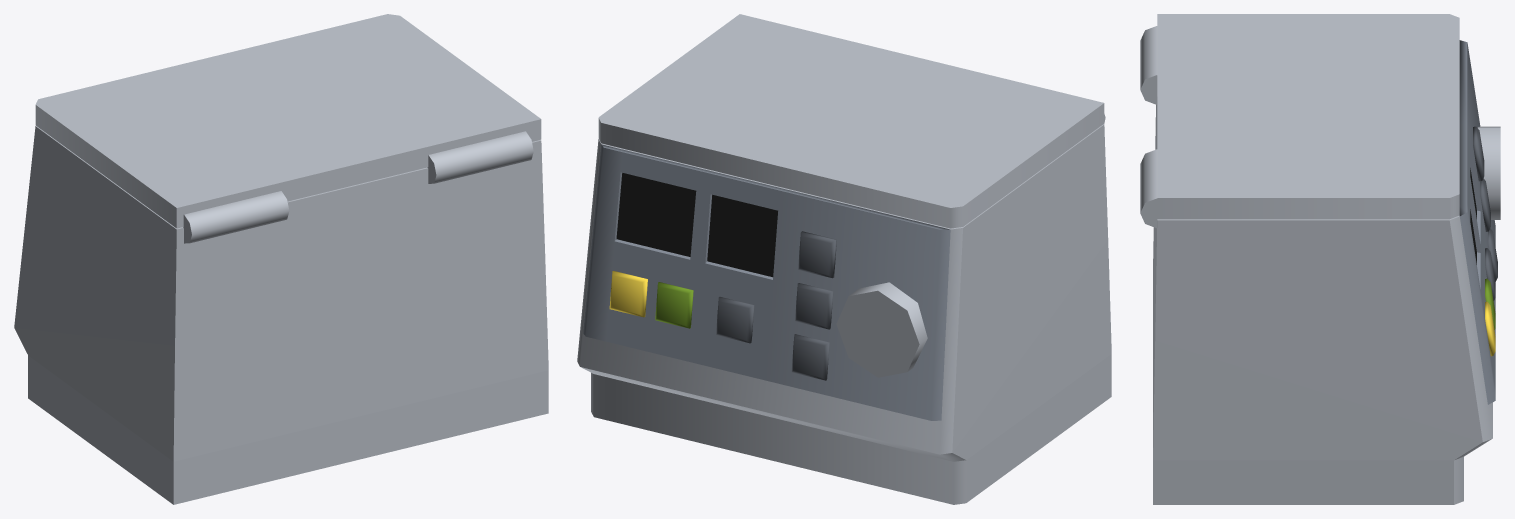
Rendered from machine_centrifuge.glb.
The picture shows the model from 3 angles, left to right: view 1: azimuth 30°, elevation 25°; view 2: azimuth 150°, elevation 25°; view 3: azimuth 270°, elevation 25°; orthographic projection. The views are drawn at different scales.
Parts seen in each view (by area): view 1: machine_centrifuge, machine_centrifuge_lid; view 2: machine_centrifuge, machine_centrifuge_lid, machine_centrifuge_knob; view 3: machine_centrifuge, machine_centrifuge_lid, machine_centrifuge_knob.
Part boxes in pixels (x1,y1,x2,y2): machine_centrifuge: (14, 125, 548, 504); machine_centrifuge_lid: (35, 14, 541, 228); machine_centrifuge: (577, 114, 1111, 504); machine_centrifuge_lid: (598, 14, 1104, 228); machine_centrifuge_knob: (836, 282, 927, 377); machine_centrifuge: (1140, 26, 1497, 504); machine_centrifuge_lid: (1157, 14, 1459, 219); machine_centrifuge_knob: (1478, 126, 1500, 219).
Bounding box in the file's own units: 28.52 × 21.36 × 22.93.
Materials: 2 (2 with a texture image).
